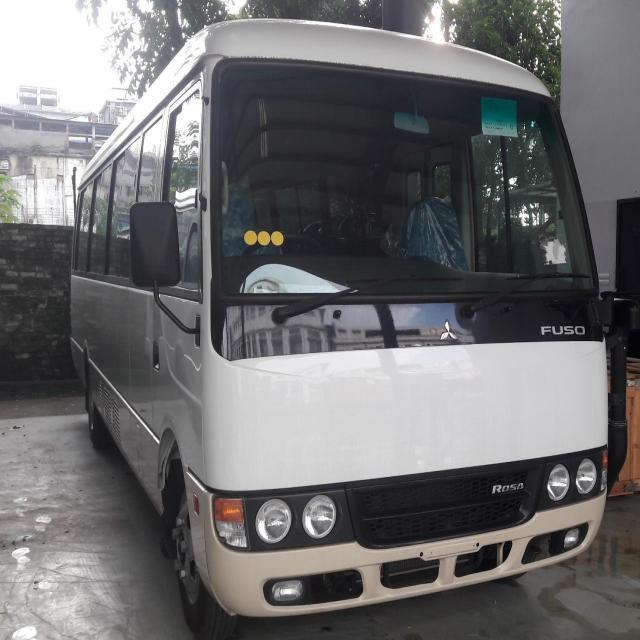bus: (60, 1, 638, 640)
